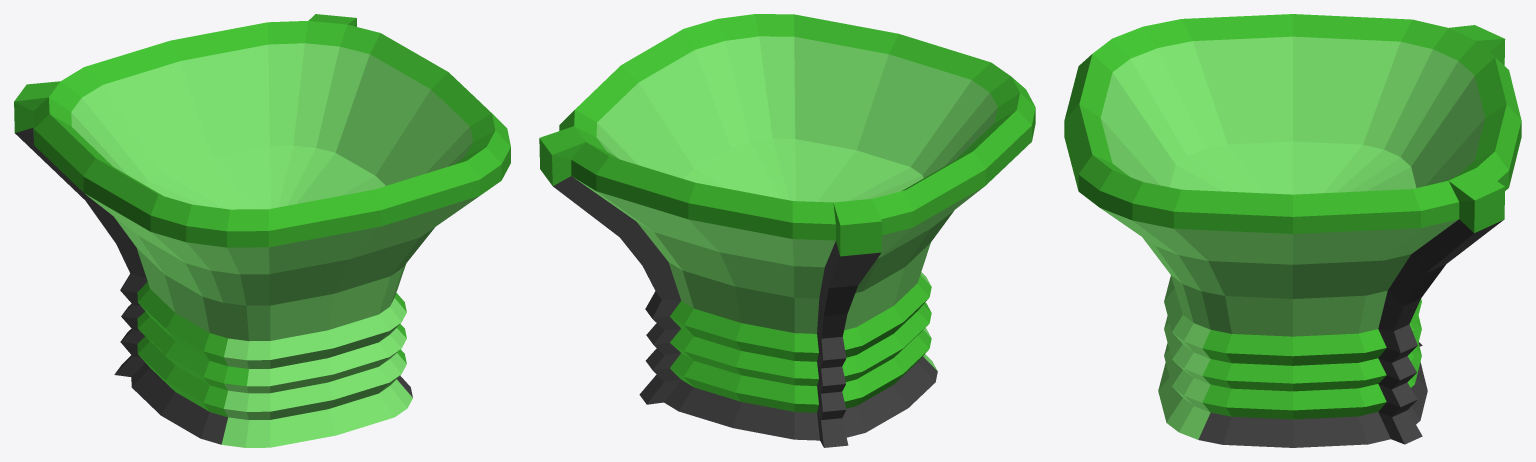
The model's file is Package_End_1.fbx.
3 views of the same model, side by side, from view 1: azimuth 30°, elevation 25°; view 2: azimuth 150°, elevation 25°; view 3: azimuth 270°, elevation 25° (orthographic). The views are drawn at different scales.
Parts seen in each view (by area): view 1: pCylinder25; view 2: pCylinder25; view 3: pCylinder25.
Boxes of the visible parts, <box> form: pCylinder25: <box>14,14,510,447</box>; pCylinder25: <box>539,14,1035,447</box>; pCylinder25: <box>1064,14,1521,447</box>.
Size of the model in its own units: 2.25 by 1.56 by 2.25.
